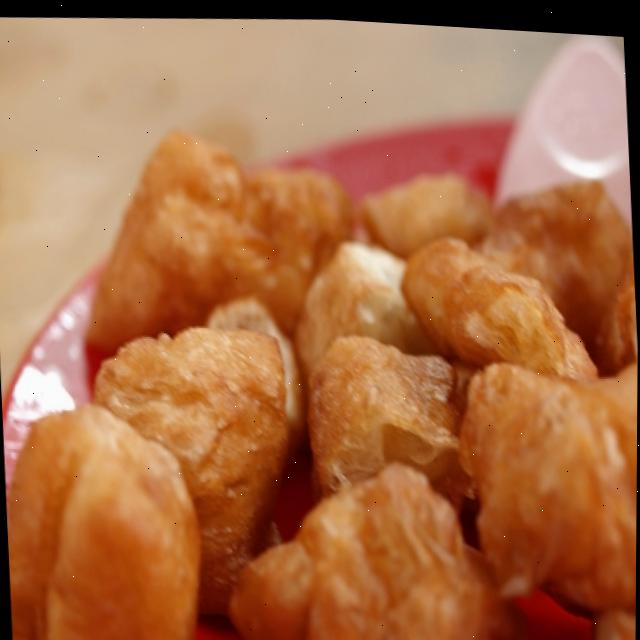炸货点心: (15, 47, 640, 640)
